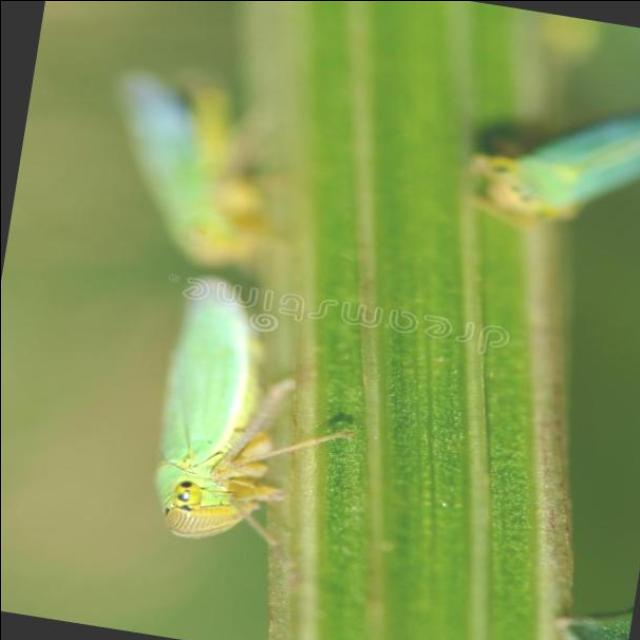green leaf hopper: (156, 281, 345, 546)
